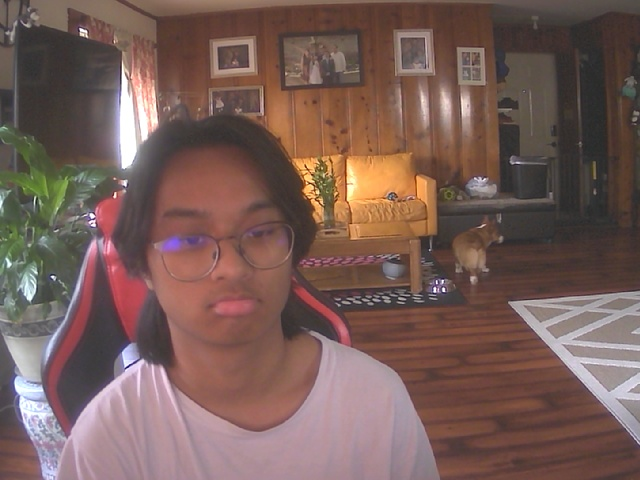sad: (137, 129, 305, 351)
